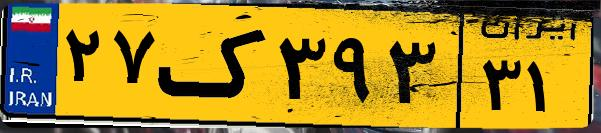1: (525, 38, 570, 115)
2: (57, 26, 110, 100)
3: (270, 28, 330, 110), (385, 28, 445, 110), (475, 38, 525, 113)
7: (110, 28, 158, 98)
9: (330, 28, 385, 110)
ک: (158, 12, 270, 120)
